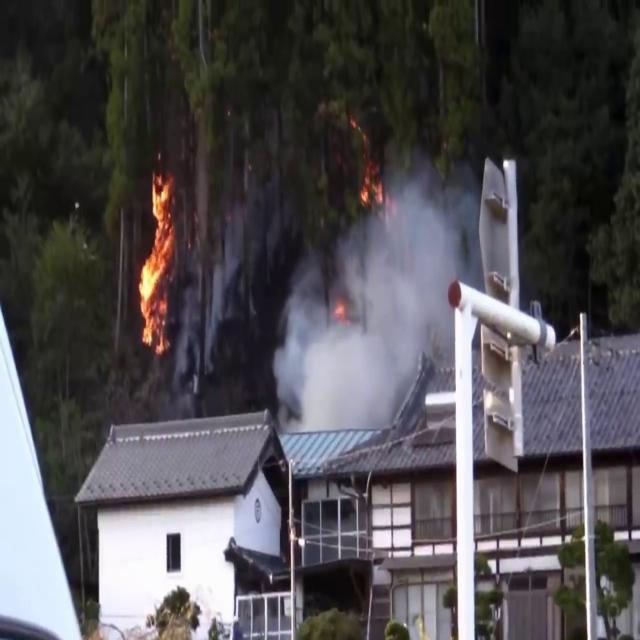Fire: (134, 162, 180, 355)
Smoke: (267, 164, 473, 430)
